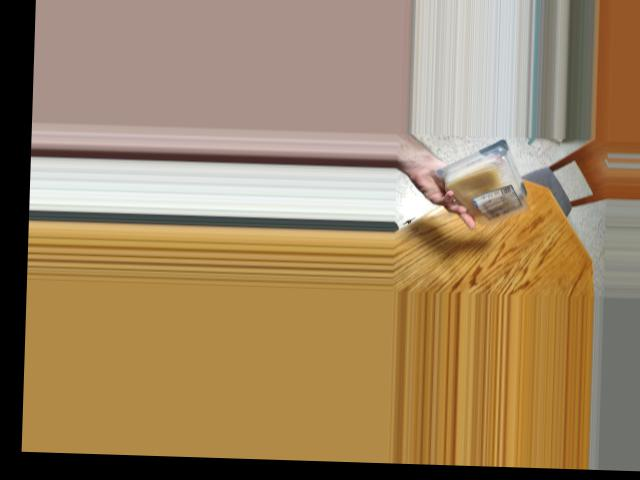cheese: (434, 144, 531, 212)
